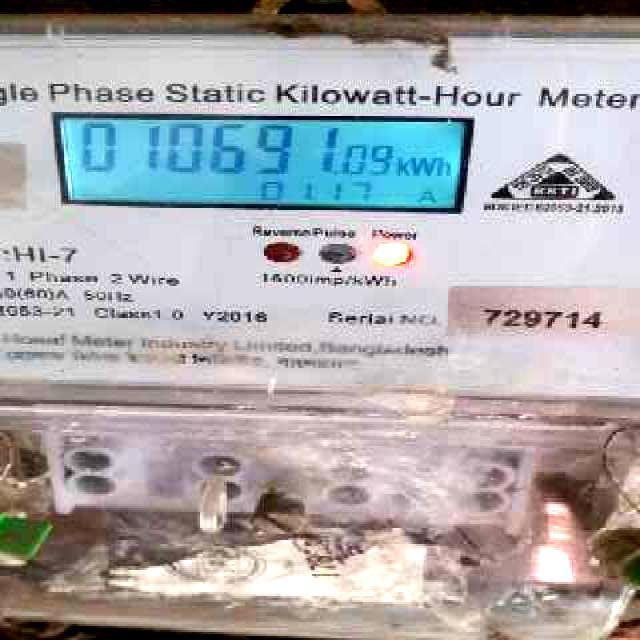LCD: (52, 110, 480, 221)
